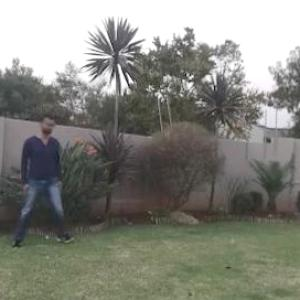follow: (19, 102, 62, 252)
